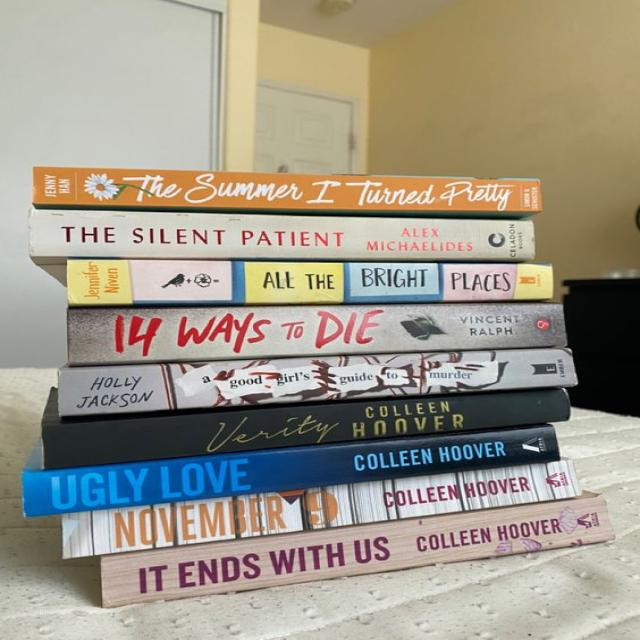book: (99, 491, 613, 607), (62, 460, 579, 558), (23, 426, 559, 517), (48, 389, 569, 469), (59, 349, 575, 417), (67, 304, 565, 366), (30, 210, 533, 260), (33, 168, 541, 214), (66, 261, 553, 306)
